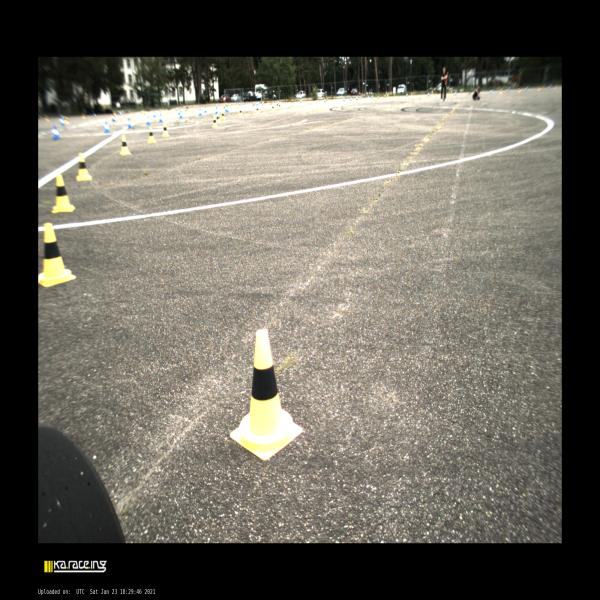blue_cone: (52, 126, 60, 140), (104, 121, 111, 133), (127, 118, 133, 128), (60, 115, 65, 126), (146, 115, 151, 125), (179, 110, 184, 118), (159, 113, 163, 122), (214, 107, 219, 114), (198, 108, 202, 116), (225, 105, 229, 113), (204, 106, 208, 113), (112, 114, 116, 121), (153, 110, 156, 118), (93, 113, 97, 118), (525, 86, 528, 91), (178, 108, 180, 115), (119, 112, 122, 116), (548, 85, 551, 89), (160, 108, 162, 113), (300, 98, 302, 103), (343, 97, 345, 102), (350, 96, 352, 101), (359, 95, 361, 100), (490, 89, 492, 94), (140, 110, 142, 114), (229, 103, 231, 107), (242, 102, 244, 106), (254, 101, 256, 105), (256, 102, 258, 106), (324, 98, 326, 102), (371, 95, 373, 99), (406, 94, 408, 98), (507, 88, 509, 92), (261, 102, 263, 105), (428, 93, 430, 96), (454, 92, 456, 95), (278, 100, 279, 105), (197, 105, 198, 109), (387, 94, 388, 98), (258, 102, 259, 105), (176, 108, 177, 110)
yellow_cone: (230, 329, 302, 460), (38, 224, 76, 286), (52, 174, 75, 212), (76, 153, 92, 180), (120, 135, 131, 155), (148, 127, 156, 143), (162, 122, 169, 136), (212, 116, 218, 128), (221, 111, 226, 120), (216, 114, 221, 123), (65, 117, 70, 124), (114, 112, 118, 120), (45, 114, 49, 121), (82, 113, 86, 120), (239, 109, 243, 116), (271, 104, 275, 111), (142, 110, 146, 116), (256, 106, 259, 114), (185, 107, 188, 114), (278, 104, 282, 109), (518, 87, 521, 92), (554, 84, 557, 89), (276, 102, 278, 108), (292, 99, 294, 105), (326, 97, 328, 103), (356, 96, 358, 102), (377, 95, 379, 101), (432, 90, 434, 96), (450, 90, 452, 96), (500, 88, 502, 94), (538, 86, 541, 90), (383, 95, 385, 100), (226, 104, 228, 108), (231, 103, 233, 107), (234, 103, 236, 107), (239, 102, 241, 106), (387, 94, 389, 98), (394, 94, 396, 98), (177, 107, 179, 110), (212, 103, 213, 109), (224, 104, 225, 109), (253, 102, 254, 107), (385, 94, 386, 99), (162, 108, 163, 112), (194, 105, 195, 109), (411, 92, 412, 96), (263, 101, 264, 104)
